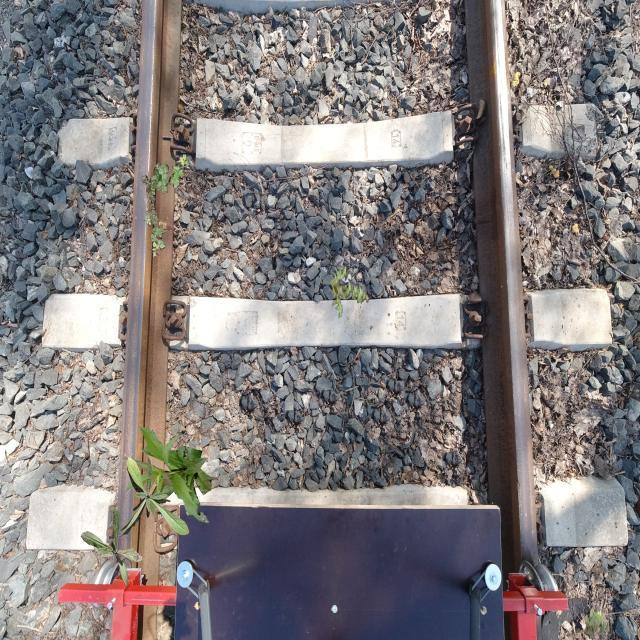Plant: (123, 426, 212, 524), (118, 456, 190, 537), (81, 506, 145, 590), (142, 154, 190, 258), (328, 265, 370, 319), (584, 608, 610, 640)
